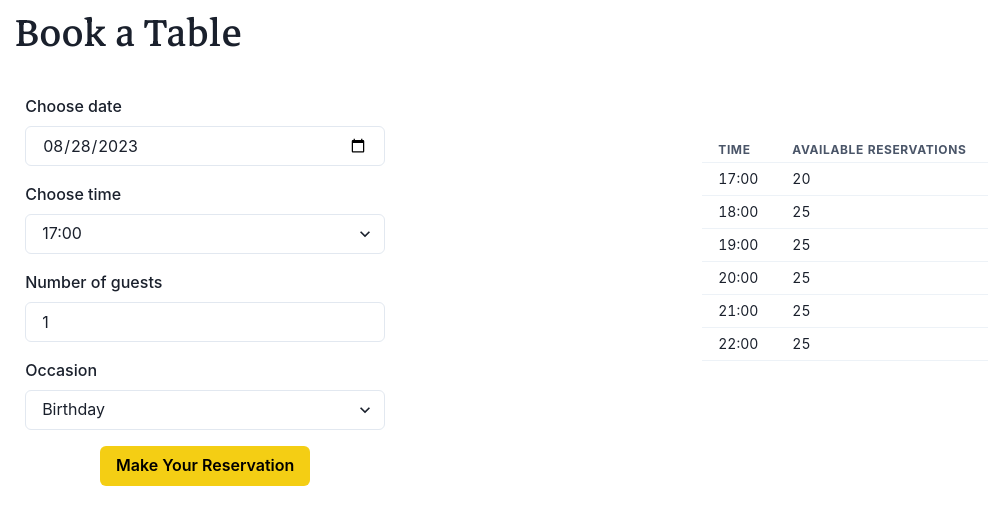
Test: Test Cases for Booking Functionality › Invalid time input test
The width and height of the screenshot is (1005, 528).
Select "10:00" in the dropdown labelled "Choose time" at (205, 234), box x1=25 y1=214 x2=385 y2=254
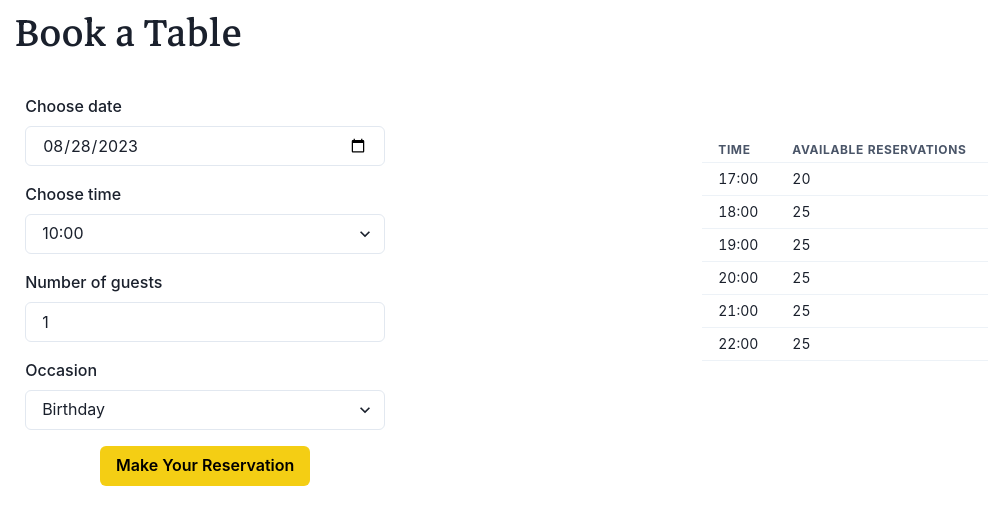
Click the button "Make Your Reservation" at (205, 466), box x1=100 y1=446 x2=310 y2=486
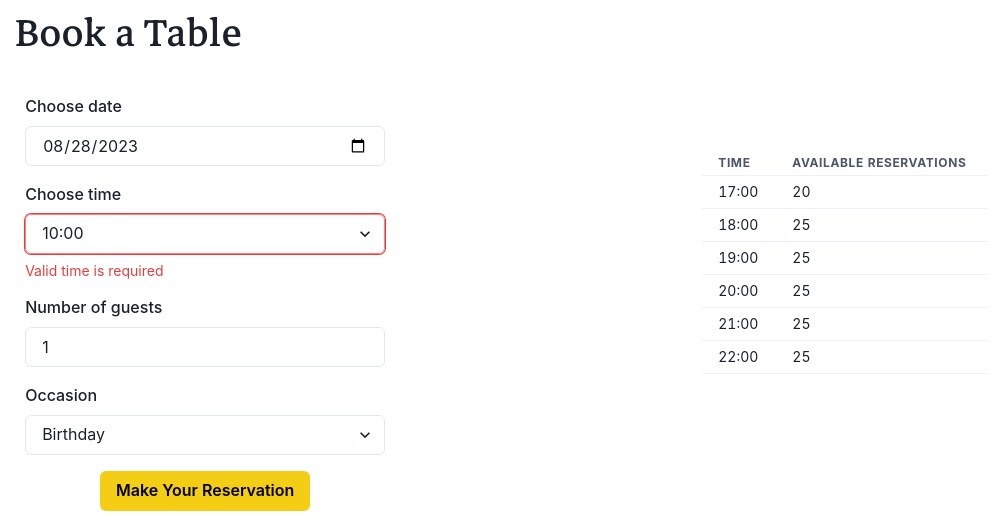
expect the text "Valid time is required" is shown: met, box x1=25 y1=262 x2=164 y2=279
